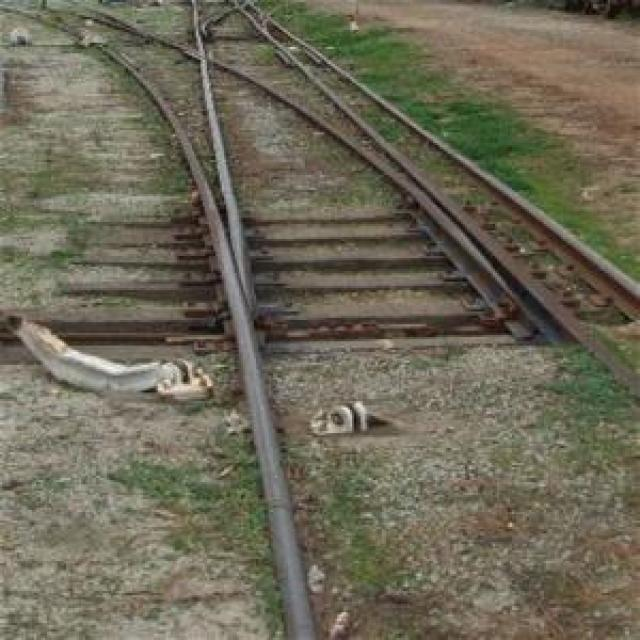rail: (3, 0, 640, 640)
